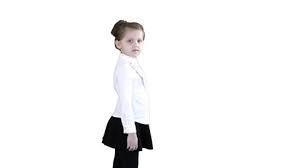Human: (102, 15, 157, 168)
